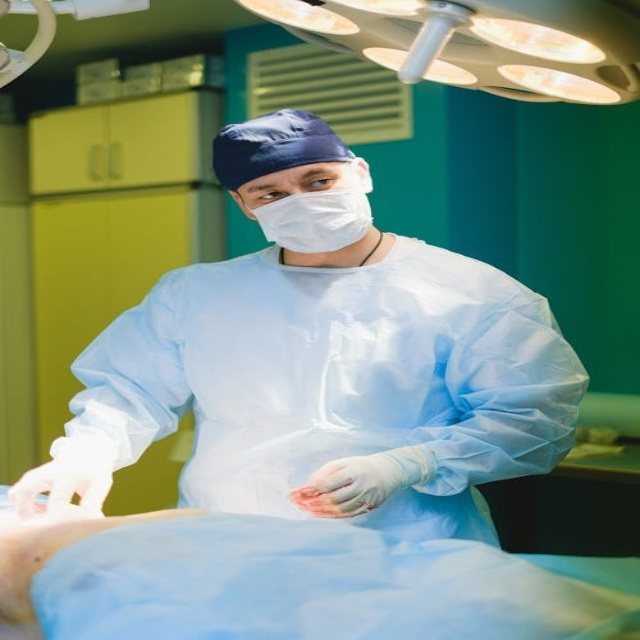Guantes: (294, 442, 437, 518), (7, 437, 118, 521)
Mascara: (252, 183, 376, 253)
Sin_gafas: (252, 169, 344, 200)
